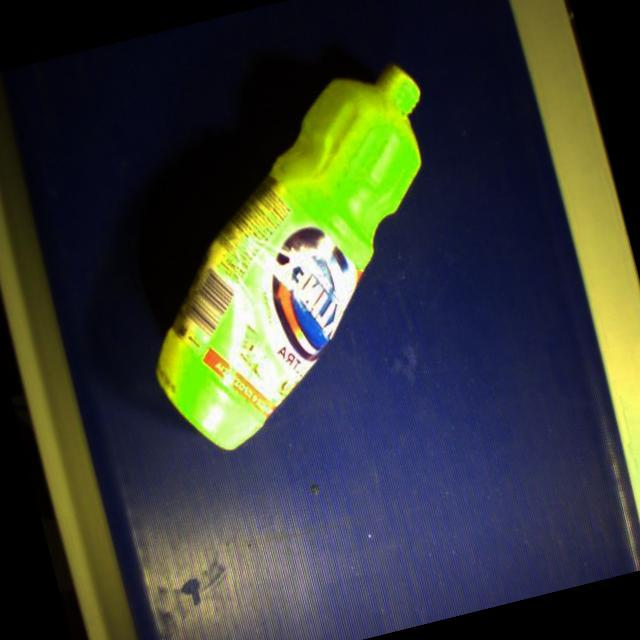HDPE Plastic: (149, 61, 429, 455)
